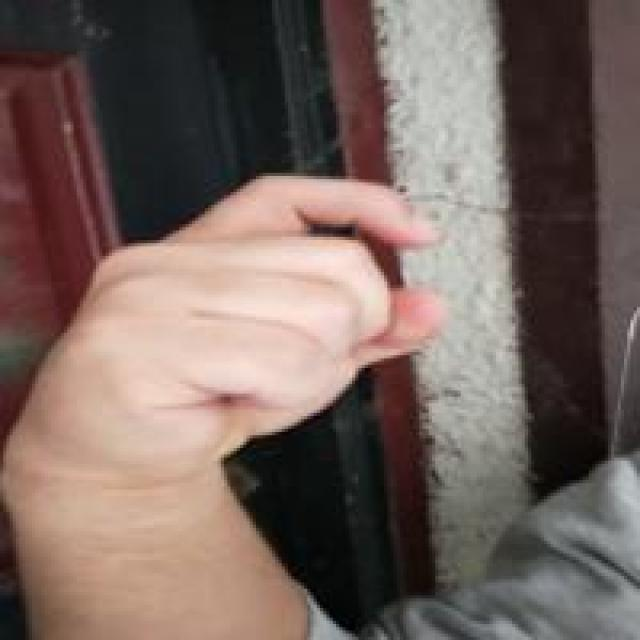X: (16, 170, 451, 480)
